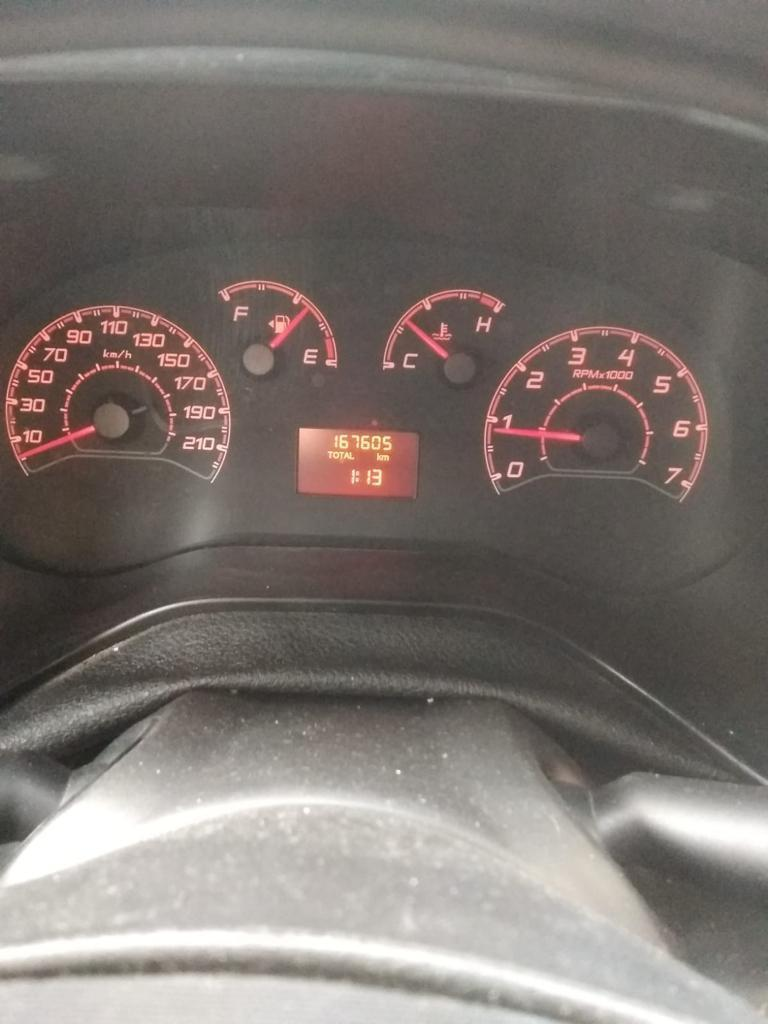0: (370, 434, 381, 450)
1: (332, 433, 338, 449), (350, 467, 355, 485), (366, 468, 370, 486)
3: (371, 468, 382, 486)
5: (382, 434, 393, 451)
6: (338, 433, 348, 449), (360, 434, 370, 449)
7: (350, 433, 359, 449)
X: (355, 469, 360, 483), (381, 454, 390, 461), (326, 449, 332, 459), (375, 451, 381, 461), (343, 450, 349, 459), (333, 450, 338, 459), (349, 451, 354, 460), (338, 451, 343, 459)
odometer: (293, 422, 424, 501)
